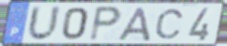0: (60, 6, 91, 41)
4: (186, 7, 211, 42)
A: (117, 6, 153, 42)
C: (154, 8, 186, 40)
P: (88, 5, 124, 43)
U: (26, 4, 63, 43)
